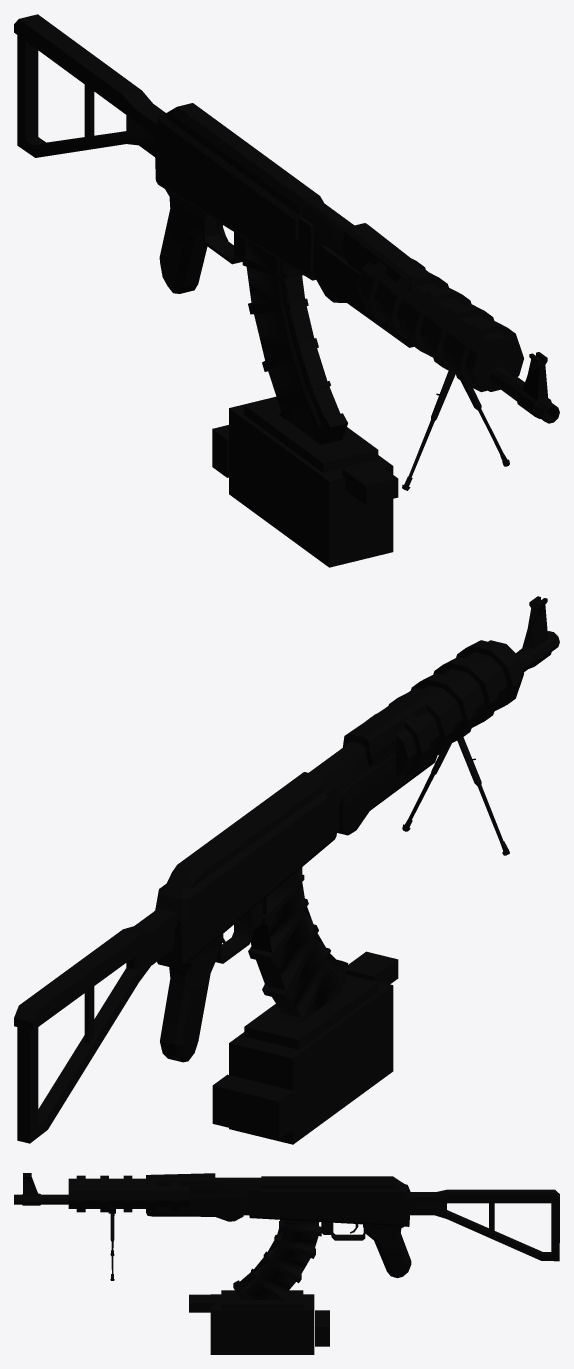
The picture shows the model from 3 angles, top to bottom: view 1: azimuth 30°, elevation 25°; view 2: azimuth 150°, elevation 25°; view 3: azimuth 270°, elevation 25°; orthographic projection. The views are drawn at different scales.
Parts seen in each view (by area): view 1: mule; view 2: mule; view 3: mule.
Part boxes in pixels (left/top/right/bottom): mule: left=14, top=14, right=559, bottom=567; mule: left=14, top=596, right=559, bottom=1144; mule: left=14, top=1173, right=559, bottom=1354.
Bounding box in the file's own units: 0.1229 × 0.3659 × 1.05.
1 material, 1 textured.
